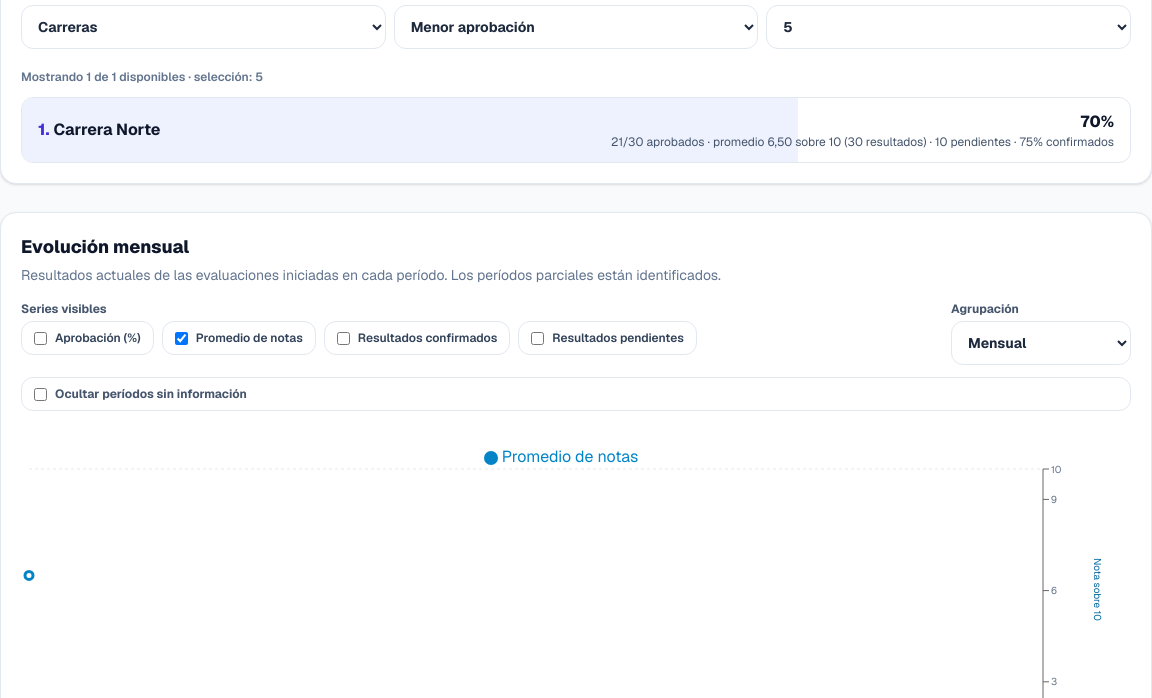
Test: panorama institucional configurable v1.4 › mantiene al menos una serie visible
The image size is (1152, 698).
(page scrolled)
Click the checkbox labelled "Promedio de notas".
click(181, 338)  # box [175, 332, 188, 344]
(page scrolled)
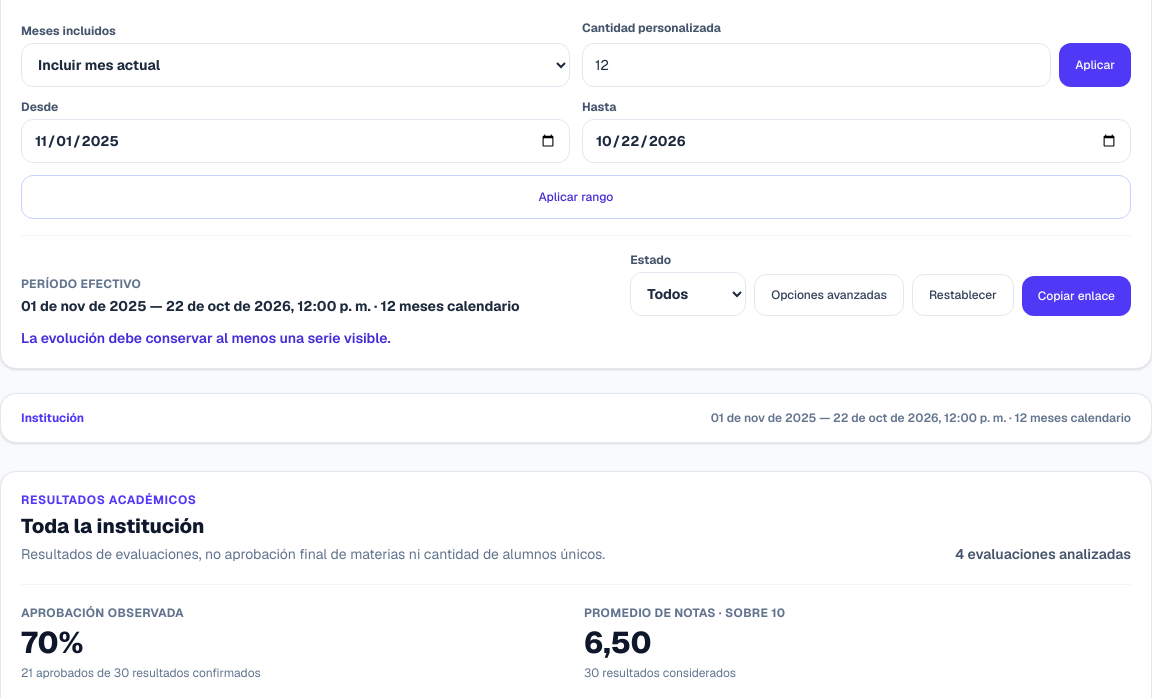
expect the text "La evolución debe conservar al menos una serie visible." is shown: met, box [21, 329, 391, 347]
